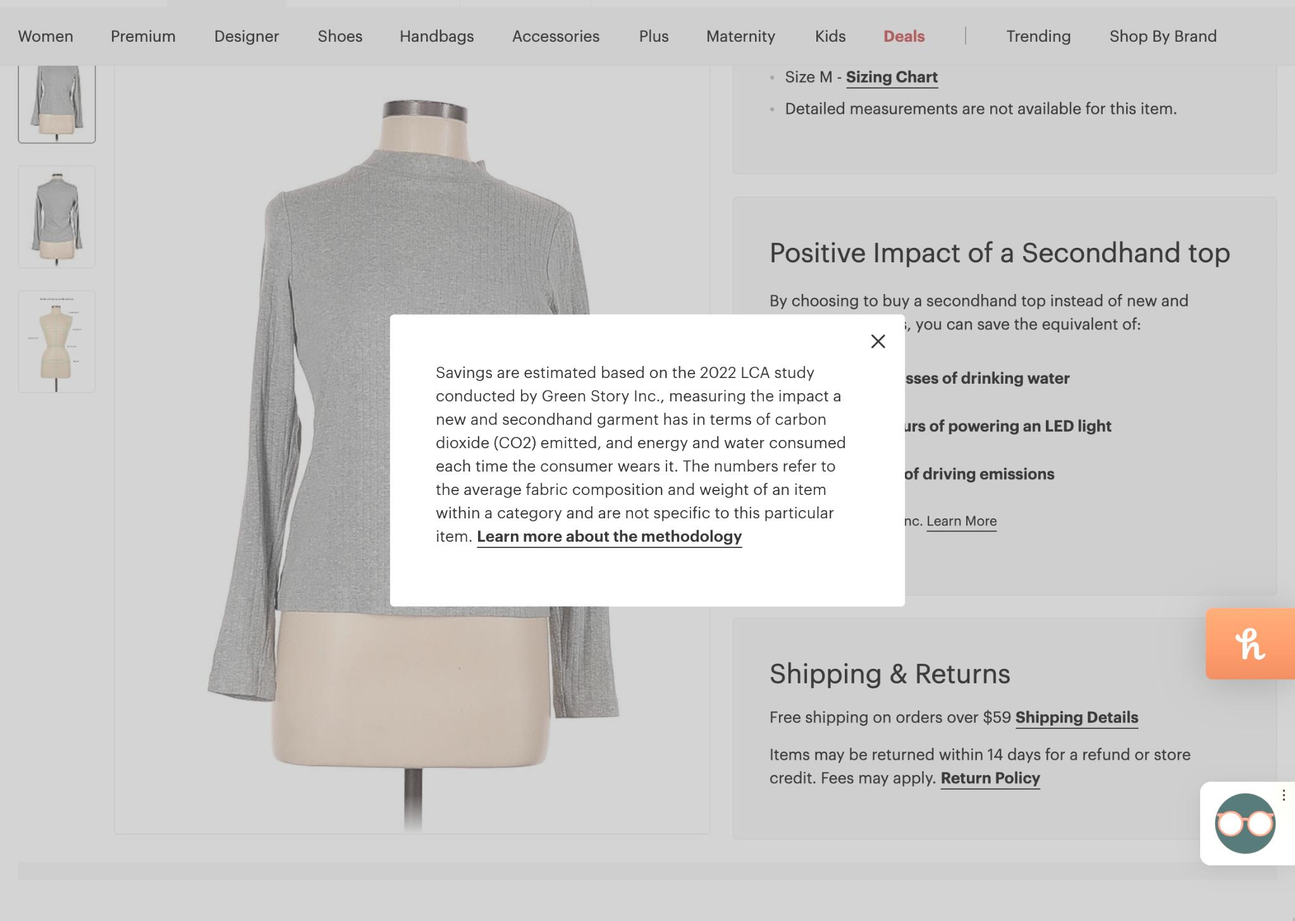webelement: (0, 0, 1294, 920), (113, 39, 709, 833), (389, 314, 904, 606), (962, 91, 1216, 345), (769, 742, 1240, 790), (769, 288, 1240, 334), (1080, 150, 1290, 223), (872, 150, 1080, 223), (769, 704, 1240, 728), (915, 9, 1018, 112), (1054, 38, 1246, 89), (1091, 6, 1233, 64), (17, 40, 95, 143), (17, 164, 95, 267), (17, 289, 95, 392), (493, 6, 616, 64), (381, 6, 491, 64), (688, 6, 792, 64), (92, 6, 193, 64), (195, 6, 295, 64), (988, 6, 1088, 64), (476, 526, 741, 547), (0, 6, 90, 64), (299, 6, 379, 64), (77, 160, 236, 189), (358, 431, 502, 461), (77, 297, 220, 326), (796, 6, 862, 64), (621, 6, 686, 64), (358, 227, 482, 257), (77, 398, 200, 428), (358, 466, 480, 496), (77, 227, 187, 257), (77, 364, 186, 394), (358, 160, 470, 189), (679, 227, 783, 257), (358, 261, 465, 290), (77, 126, 176, 156), (358, 330, 460, 359), (77, 194, 177, 223), (358, 193, 454, 223), (679, 398, 774, 428), (358, 296, 456, 325), (358, 398, 450, 428), (679, 193, 768, 223), (77, 91, 163, 121), (1015, 708, 1137, 729), (77, 262, 162, 292), (679, 160, 764, 189), (358, 125, 435, 155), (907, 242, 1005, 265), (907, 337, 1005, 360), (679, 330, 755, 359), (358, 363, 430, 393), (679, 125, 748, 155), (940, 768, 1038, 789), (77, 330, 144, 359), (845, 67, 937, 88), (809, 409, 879, 436), (809, 361, 878, 387), (907, 406, 972, 429), (679, 431, 726, 461), (678, 466, 724, 496), (926, 512, 996, 531), (907, 305, 963, 328), (809, 457, 856, 484), (679, 363, 719, 393), (907, 273, 957, 296), (679, 261, 711, 290), (679, 296, 711, 325), (882, 26, 924, 44), (769, 366, 791, 388), (769, 414, 791, 436), (769, 461, 791, 483), (869, 333, 885, 348)
